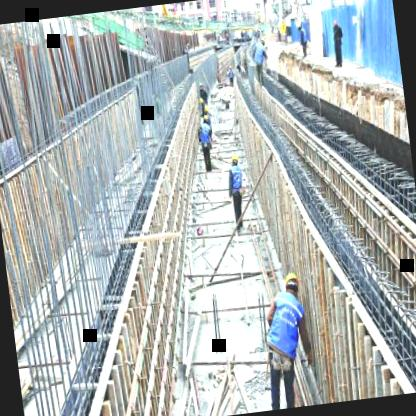helmet: (280, 268, 304, 300), (229, 150, 239, 164)
